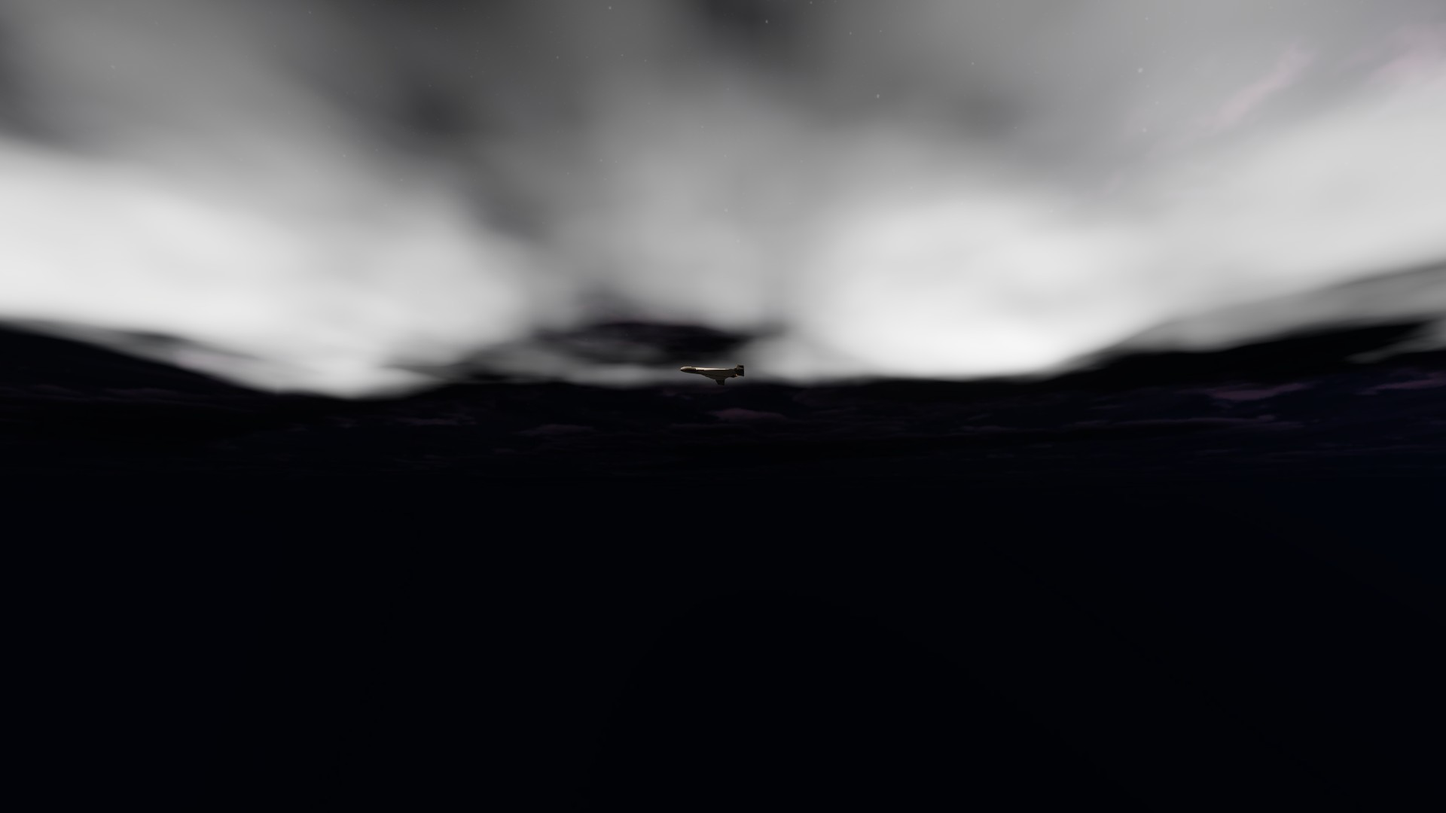shahed: (680, 365, 744, 385)
